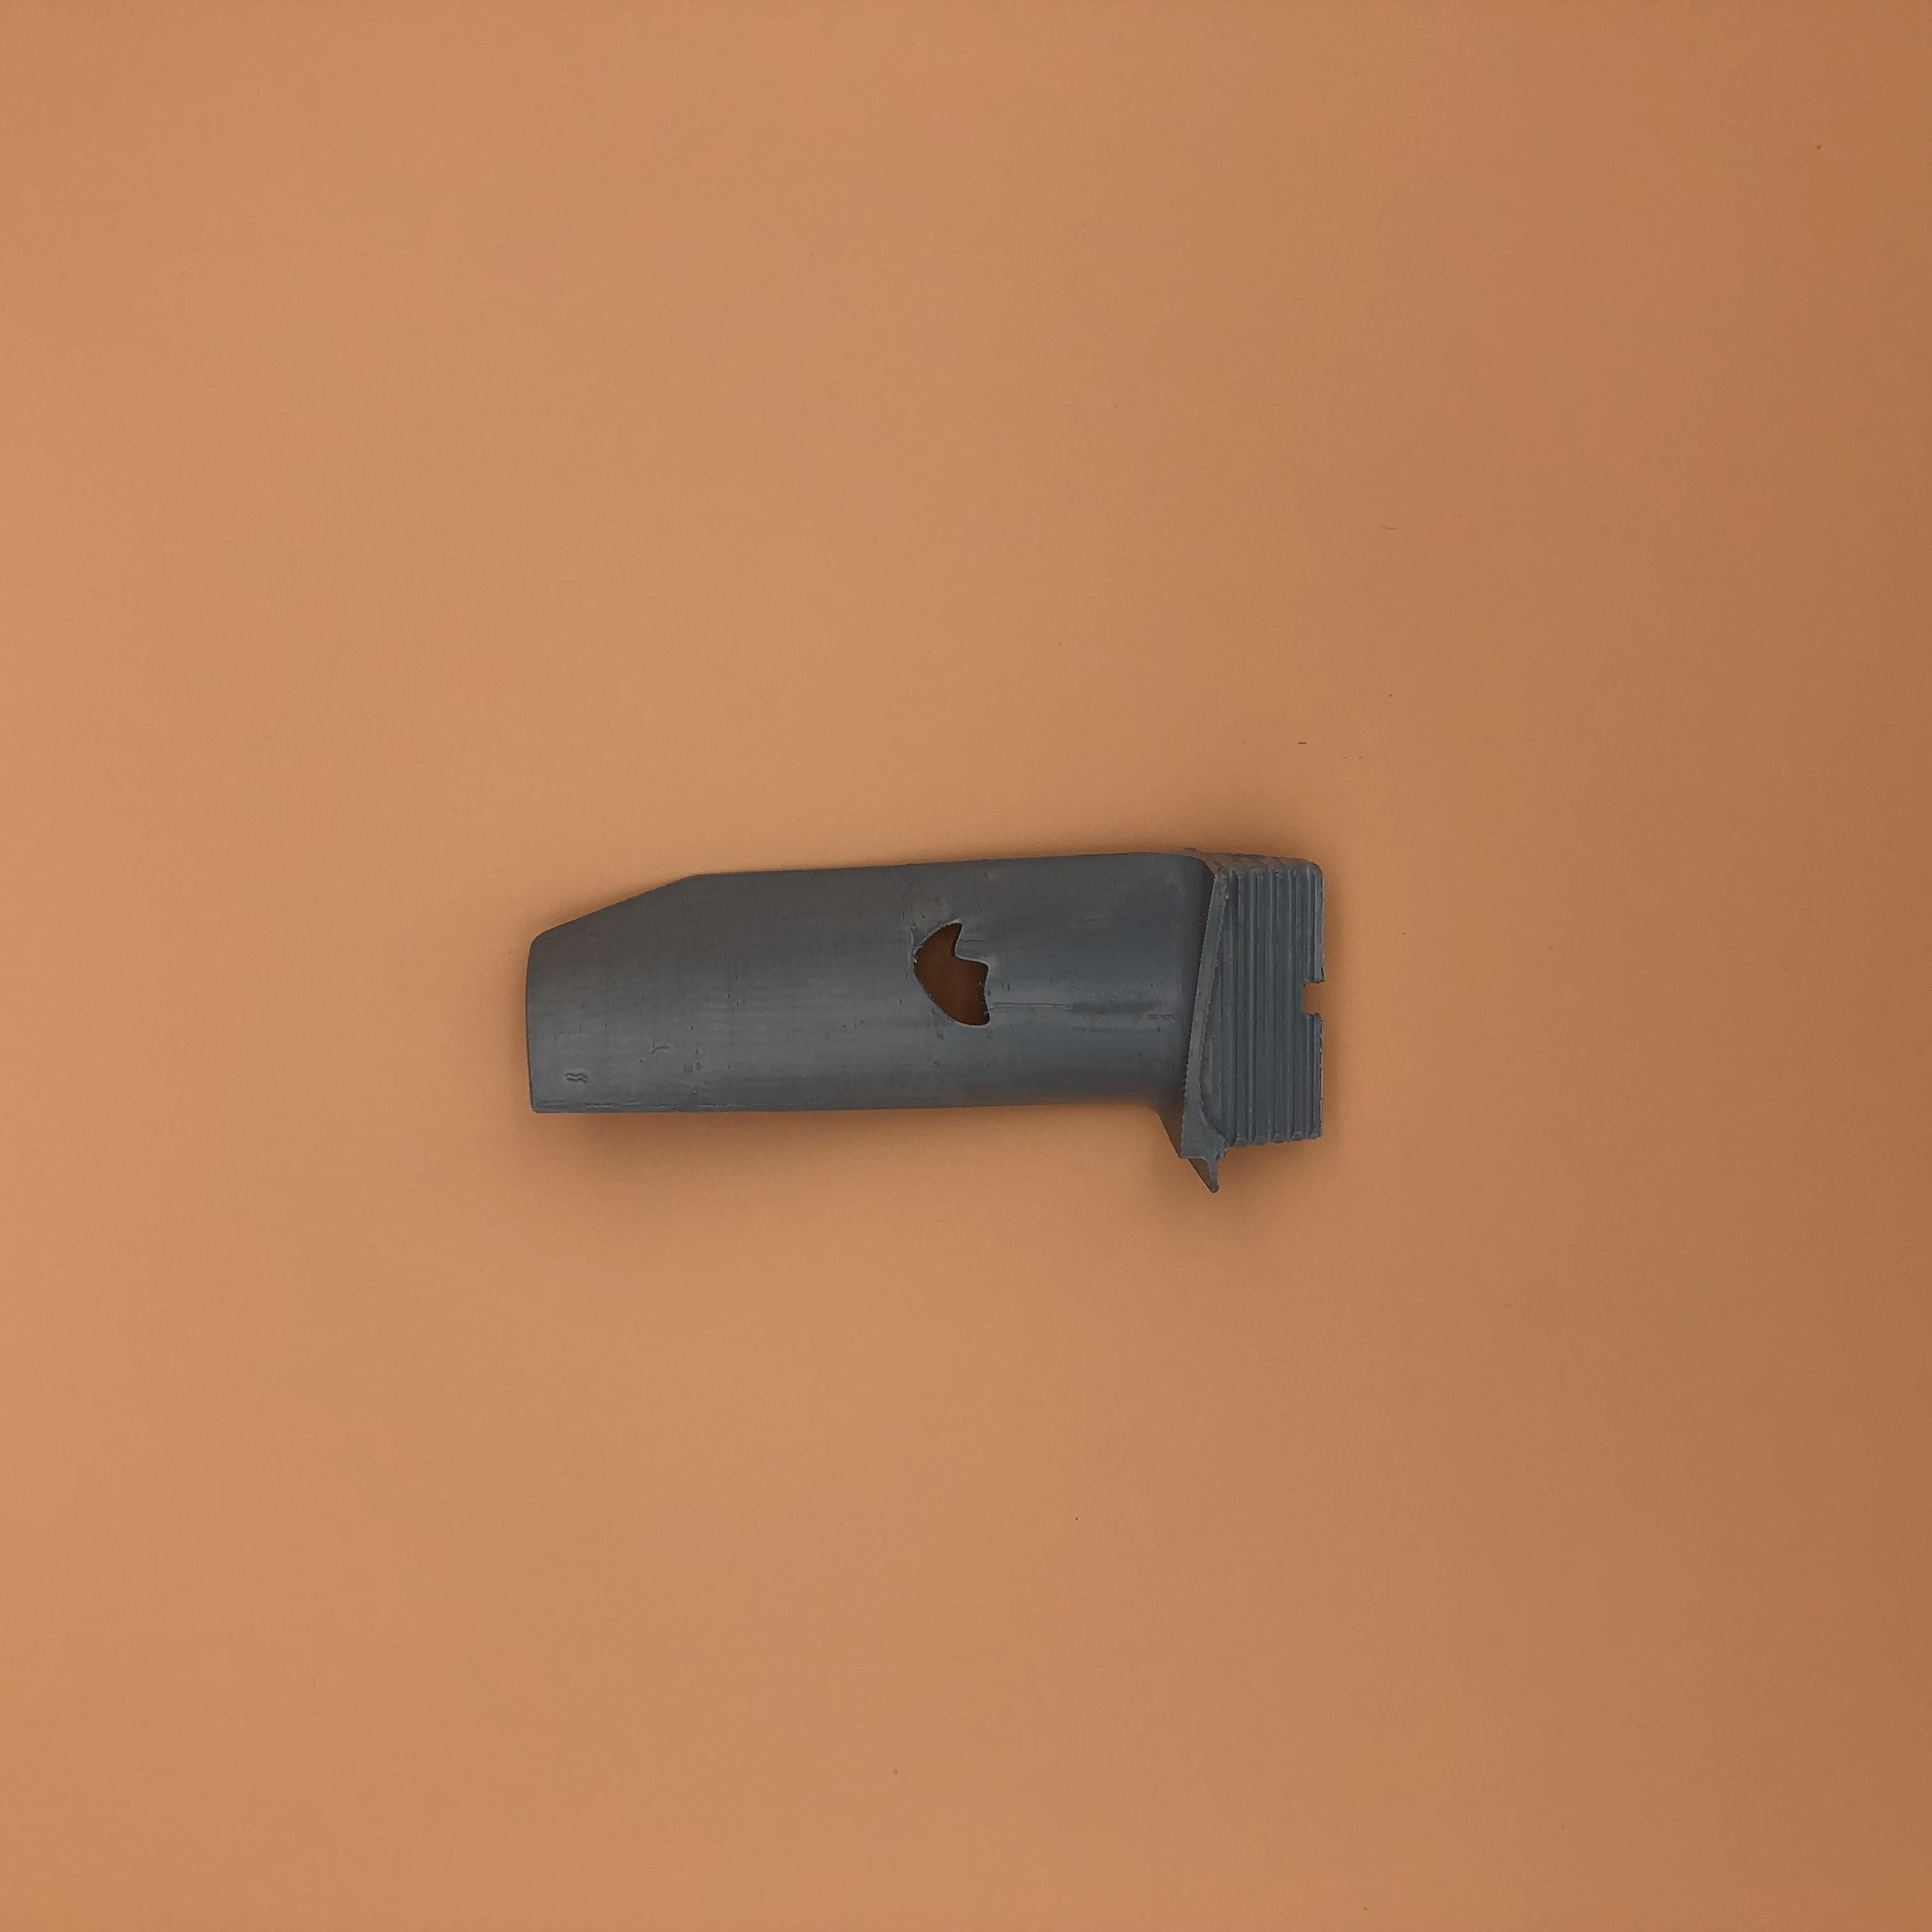breakdown: (913, 924, 1008, 1033)
